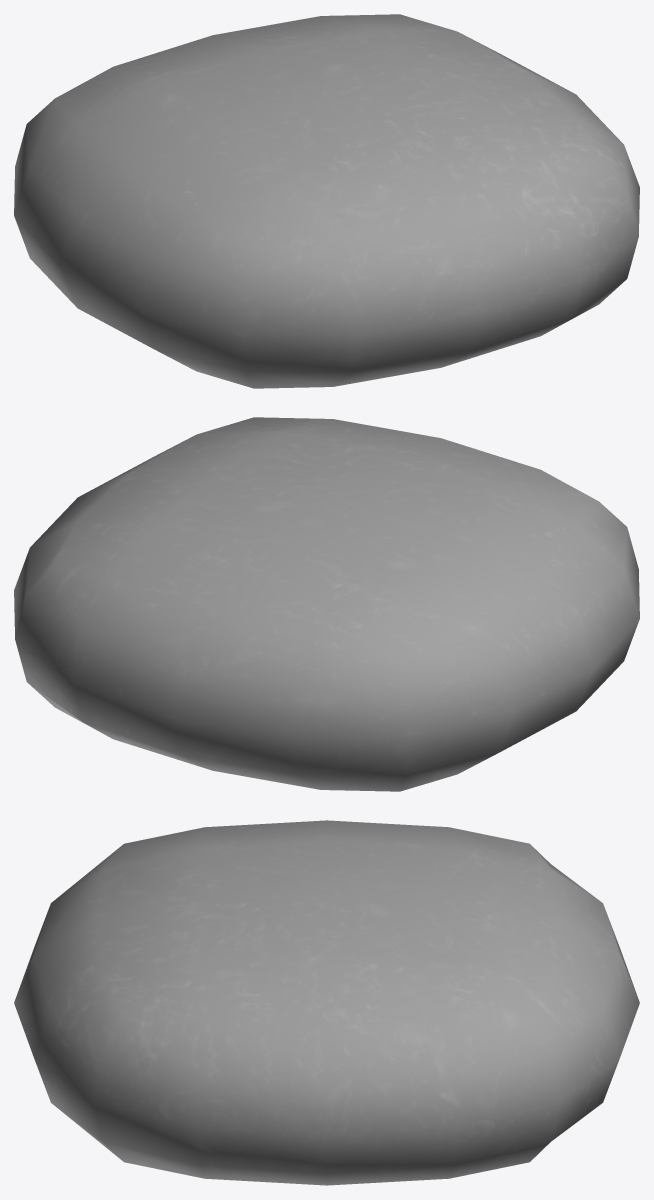
Rendered from small_stone_a.obj.
The picture shows the model from 3 angles, top to bottom: view 1: azimuth 30°, elevation 25°; view 2: azimuth 150°, elevation 25°; view 3: azimuth 270°, elevation 25°; orthographic projection.
Parts seen in each view (by area): view 1: small_stone_a; view 2: small_stone_a; view 3: small_stone_a.
Part boxes in pixels (x1=…): small_stone_a: x1=14, y1=14, x2=639, y2=388; small_stone_a: x1=14, y1=417, x2=639, y2=791; small_stone_a: x1=14, y1=820, x2=639, y2=1185.
Bounding box in the file's own units: 0.74 × 0.296 × 0.74.
